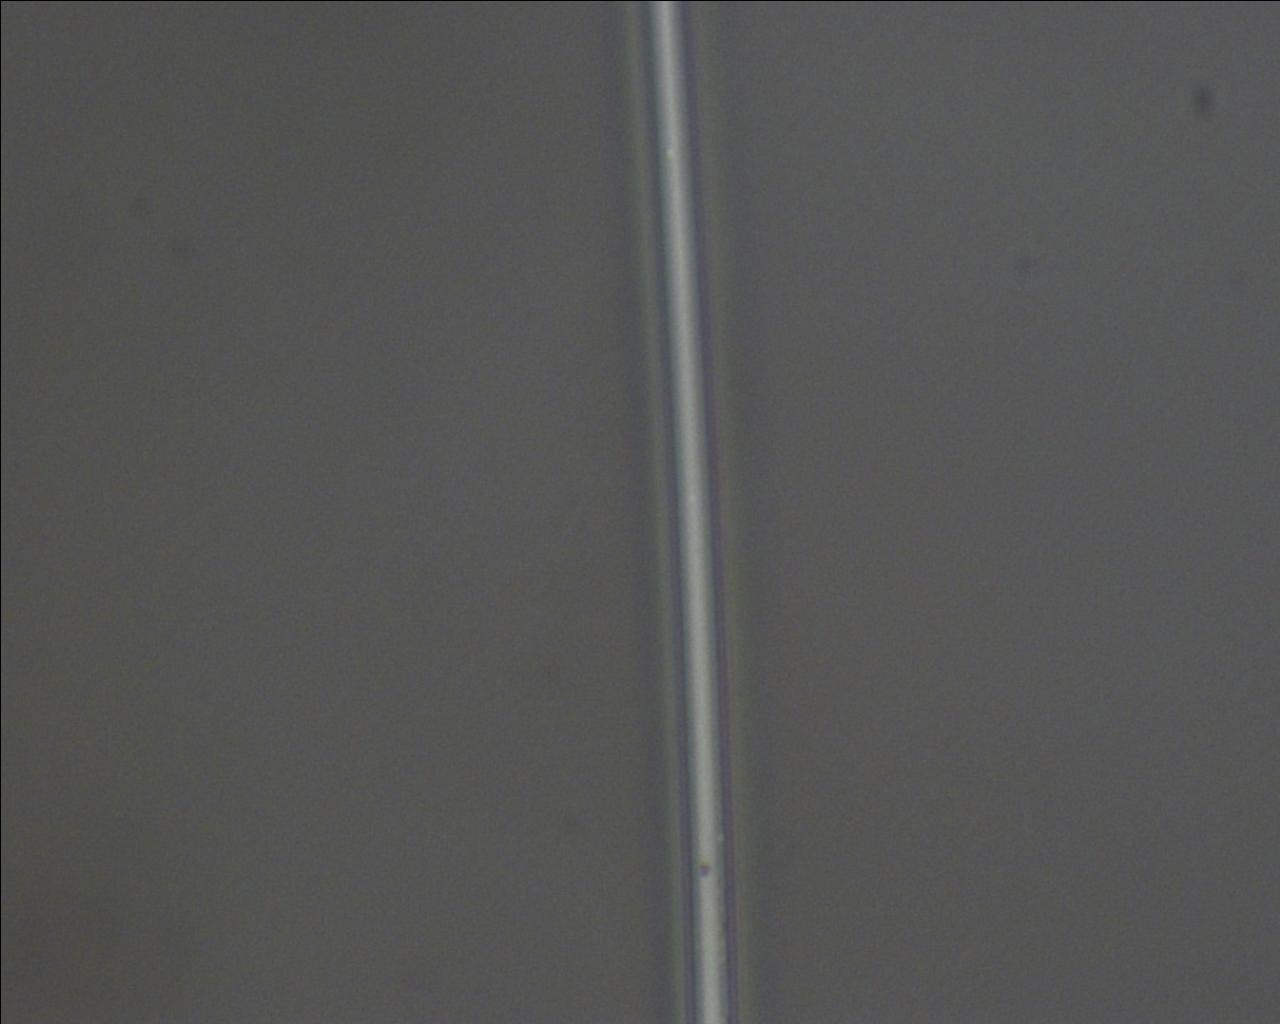fiber: (74, 440, 182, 1024), (588, 0, 728, 440), (840, 440, 917, 1024), (0, 11, 53, 440)
